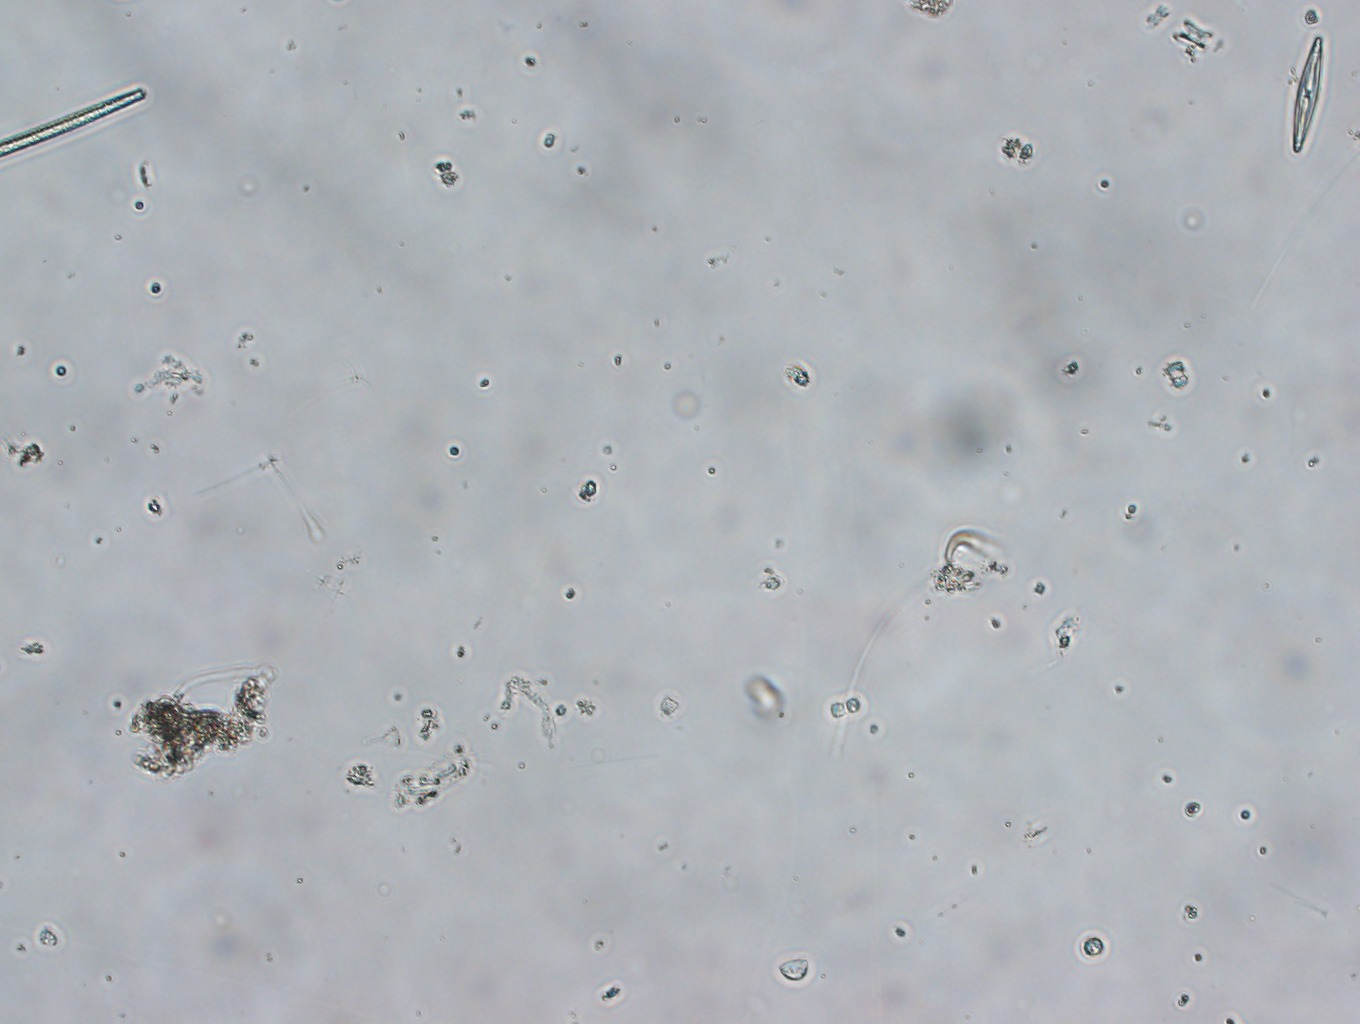navicula: (1274, 25, 1335, 158)
